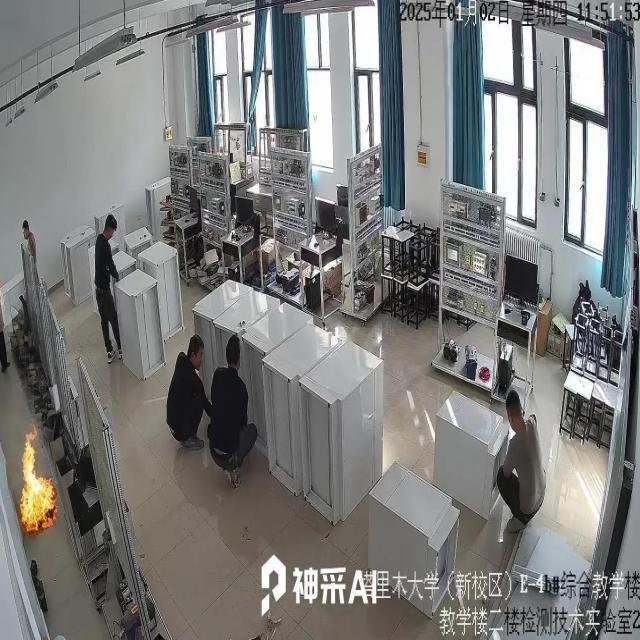smoke: (17, 424, 58, 534)
